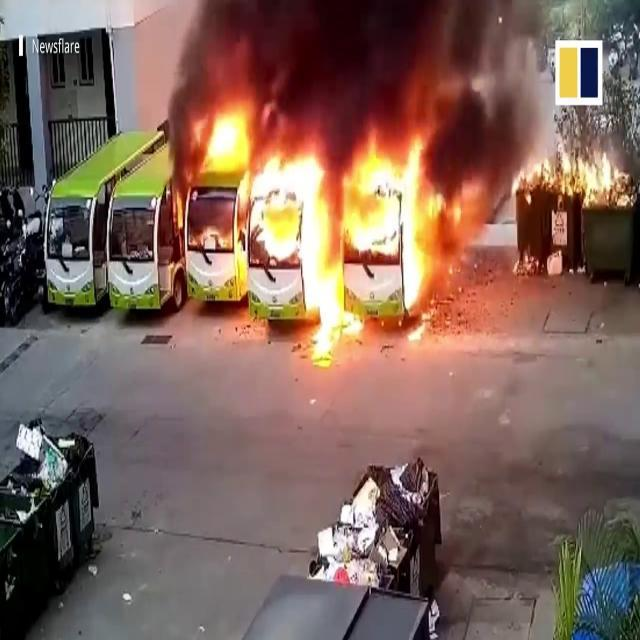Fire: (167, 118, 446, 336), (525, 142, 634, 208)
Smoke: (144, 0, 460, 166), (414, 1, 556, 188)
